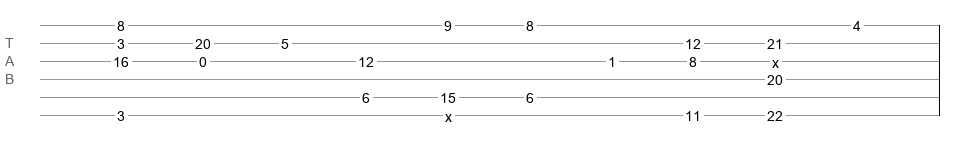0: (199, 54, 207, 64)
1: (608, 54, 616, 64)
11: (685, 108, 701, 118)
12: (358, 54, 374, 64), (685, 36, 701, 46)
15: (440, 90, 456, 100)
16: (113, 54, 129, 64)
20: (195, 36, 211, 46), (767, 72, 783, 82)
21: (767, 36, 783, 46)
22: (767, 108, 783, 118)
3: (117, 36, 125, 46), (117, 108, 125, 118)
4: (853, 18, 861, 28)
5: (281, 36, 289, 46)
6: (362, 90, 370, 100), (526, 90, 534, 100)
8: (117, 18, 125, 28), (526, 18, 534, 28), (689, 54, 697, 64)
9: (444, 18, 452, 28)
x: (445, 109, 452, 117), (772, 55, 779, 63)
